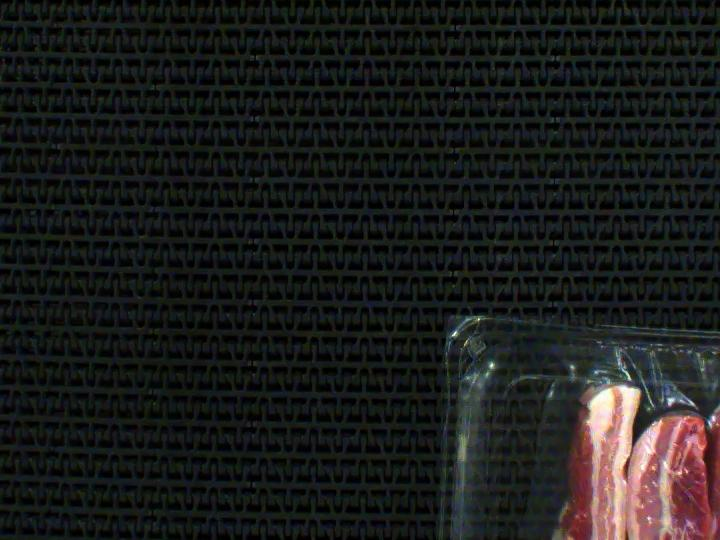unsealed: (515, 341, 720, 540)
